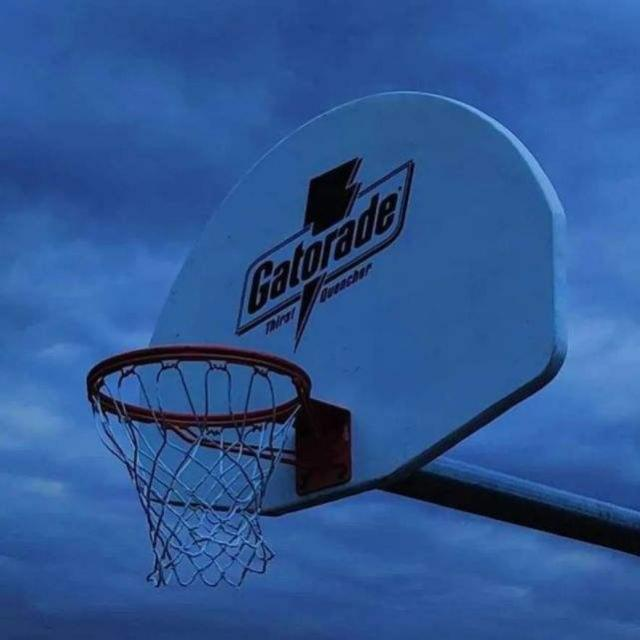rim: (86, 344, 312, 588)
